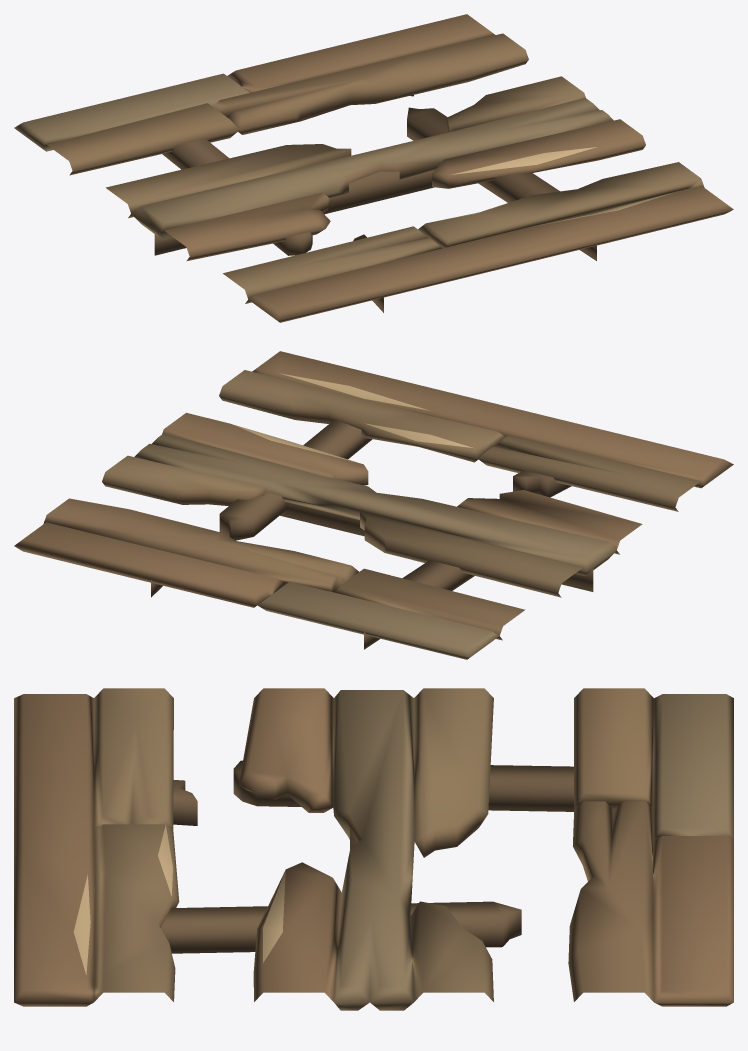
The model's file is rpgpp_av_floor_02d_3x3_2side.gltf.
3 views of the same model, one above another, from view 1: azimuth 30°, elevation 25°; view 2: azimuth 150°, elevation 25°; view 3: azimuth 270°, elevation 25° (orthographic). The views are drawn at different scales.
Visible parts, largest first — view 1: rpgpp_av_floor_02d_3x3_2side; view 2: rpgpp_av_floor_02d_3x3_2side; view 3: rpgpp_av_floor_02d_3x3_2side.
Part boxes in pixels (bbox=[...]): rpgpp_av_floor_02d_3x3_2side: bbox=[14, 14, 733, 322]; rpgpp_av_floor_02d_3x3_2side: bbox=[14, 351, 733, 659]; rpgpp_av_floor_02d_3x3_2side: bbox=[14, 688, 733, 1010].
Bounding box in the file's own units: 0.03 × 0.00215 × 0.03.
Materials: 1 (1 with a texture image).
